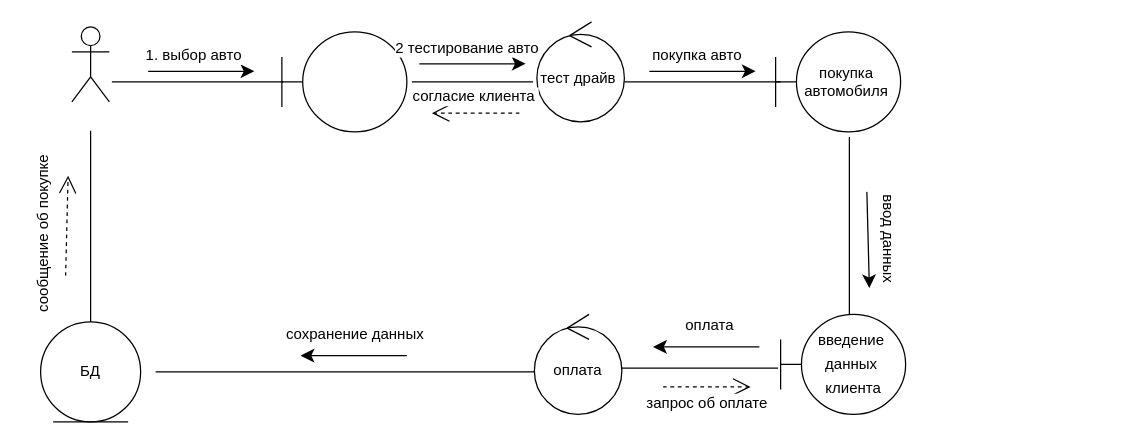
Some shapes in this 1128 by 444 pixel diagram are drawn without their labels. The box of each missing label's shape, as (x1, y1, x2, y2) in pixels:
выбор подерживанного автомобиля: (281, 31, 407, 132)
Клиент: (71, 26, 109, 102)
